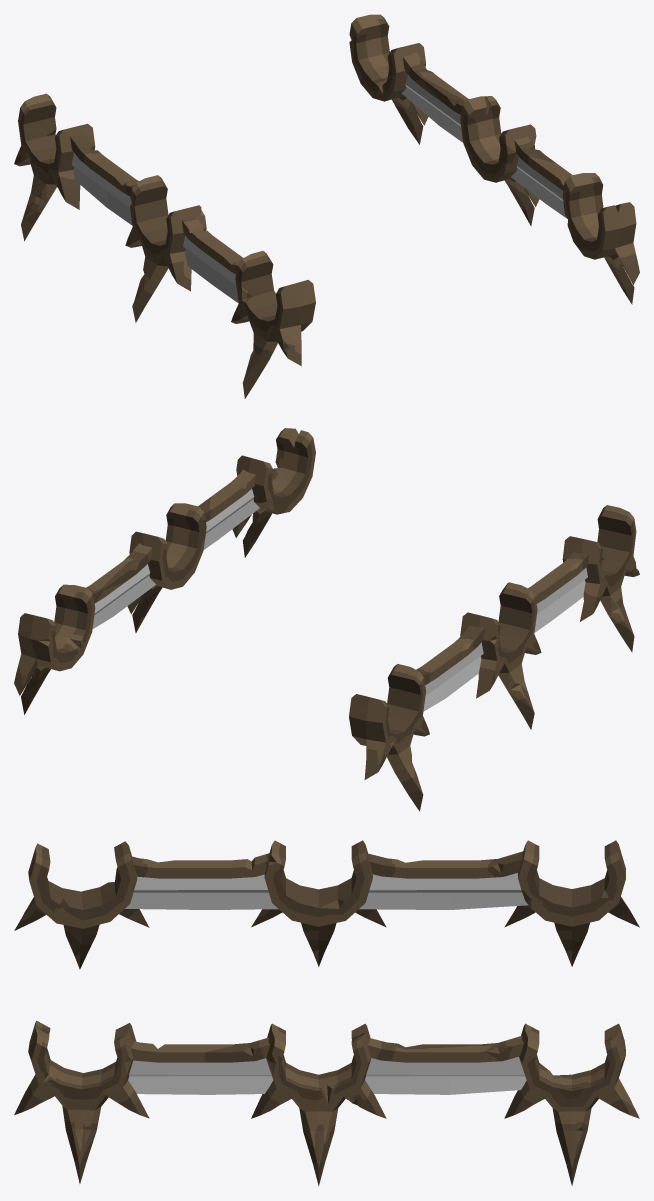
File: SM_Veh_Ship_M_Middle_04.fbx
3 views of the same model, one above another, from view 1: azimuth 30°, elevation 25°; view 2: azimuth 150°, elevation 25°; view 3: azimuth 270°, elevation 25° (orthographic). The views are drawn at different scales.
Visible parts, largest first — view 1: SM_Veh_Ship_M_Middle_04; view 2: SM_Veh_Ship_M_Middle_04; view 3: SM_Veh_Ship_M_Middle_04.
Part boxes in pixels (left/top/right/bottom): SM_Veh_Ship_M_Middle_04: left=14, top=14, right=639, bottom=398; SM_Veh_Ship_M_Middle_04: left=14, top=428, right=639, bottom=811; SM_Veh_Ship_M_Middle_04: left=14, top=840, right=639, bottom=1186.
Size of the model in its own units: 803 by 234 by 951.
